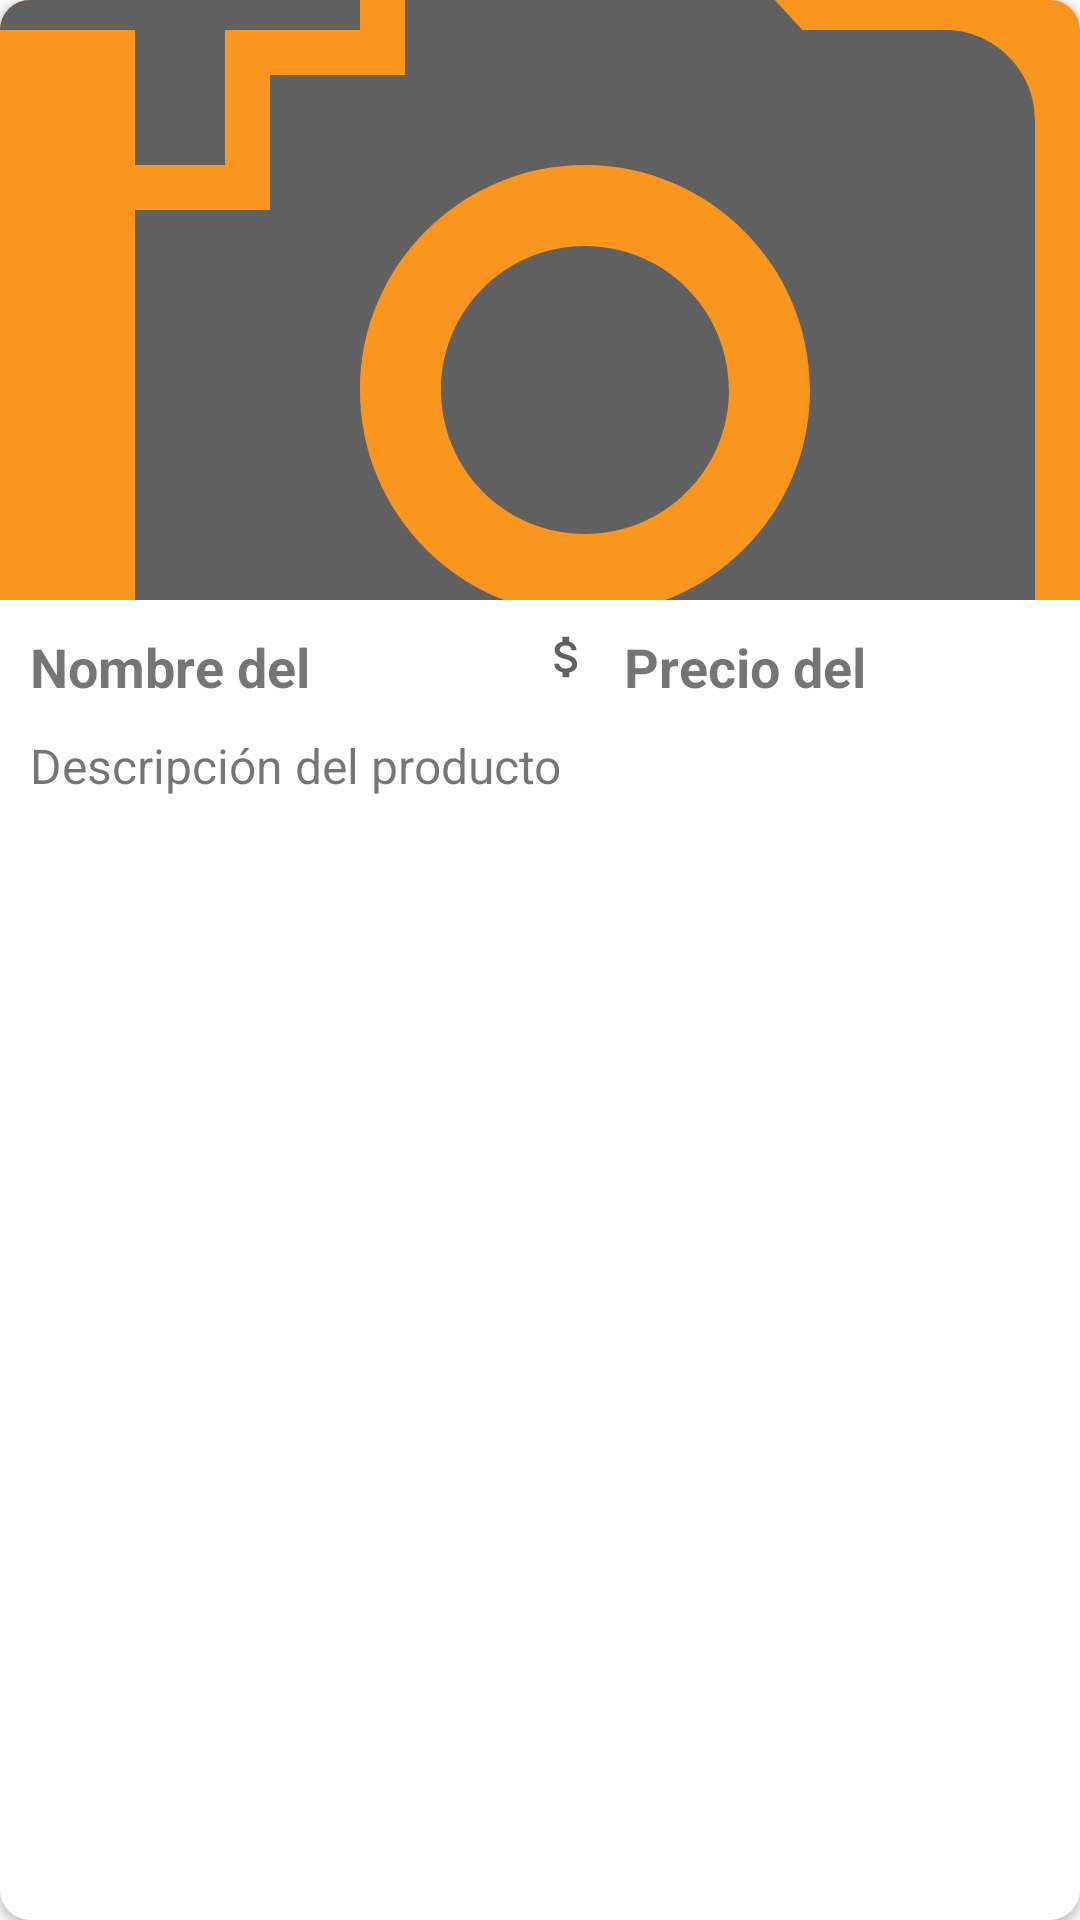

Named icons in this screenshot (1080px×1920px) and their bounding boxes, (x1, y1, x2, y2):
money: (554, 636, 577, 678)
